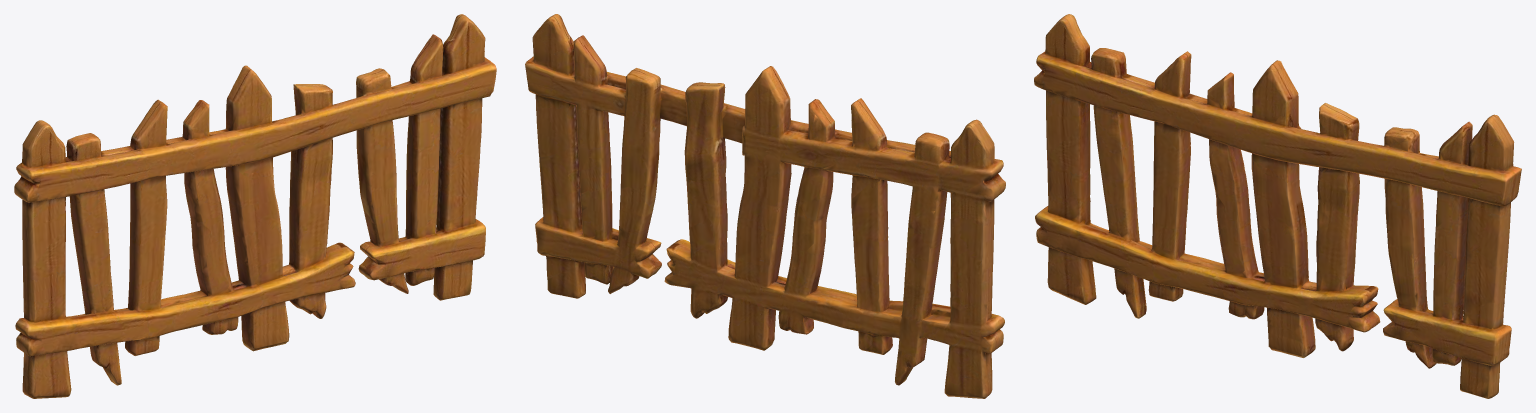
3 views of the same model, side by side, from view 1: azimuth 30°, elevation 25°; view 2: azimuth 150°, elevation 25°; view 3: azimuth 330°, elevation 25° (orthographic).
Bounding box in the file's own units: 1.9 × 1.09 × 0.1166.
1 material, 1 textured.
